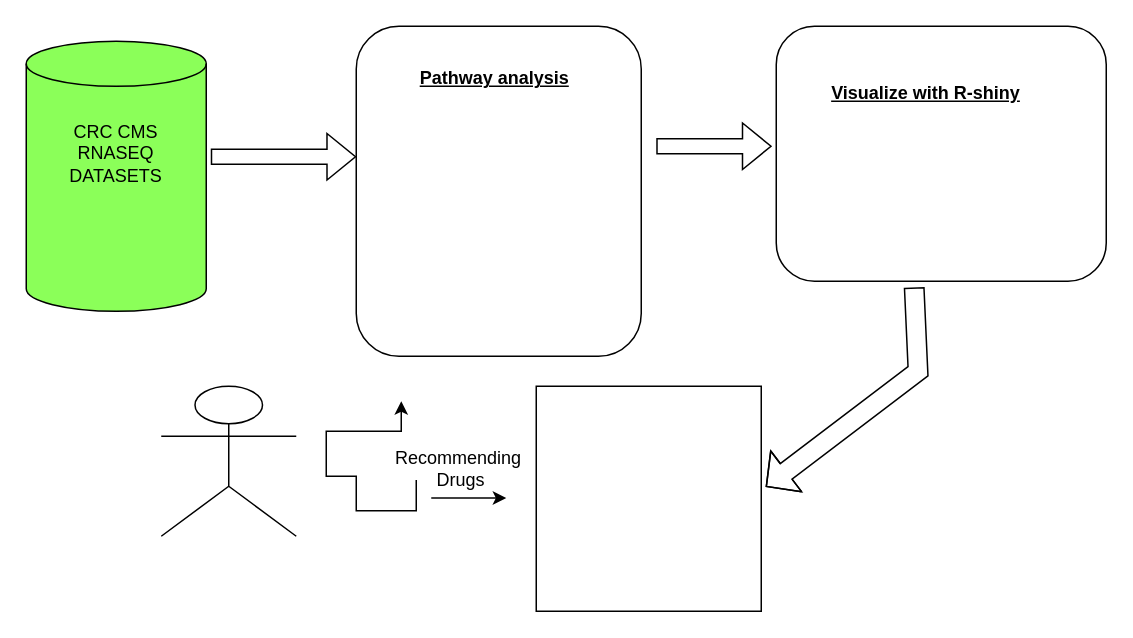
Some shapes in this 1133 by 638 pixel diagram are drawn without their labels. The centre of each missing label's shape, as x and y in pixels:
Clinician: (x=228, y=460)
Disease Subtyping: (x=648, y=498)
